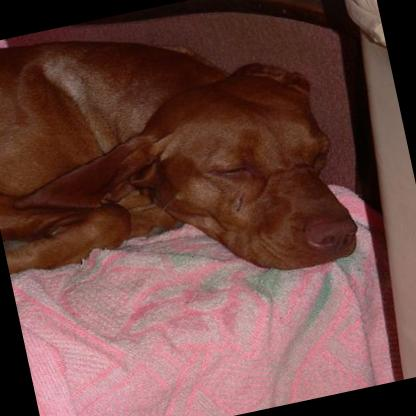vizsla: (0, 0, 361, 325)
